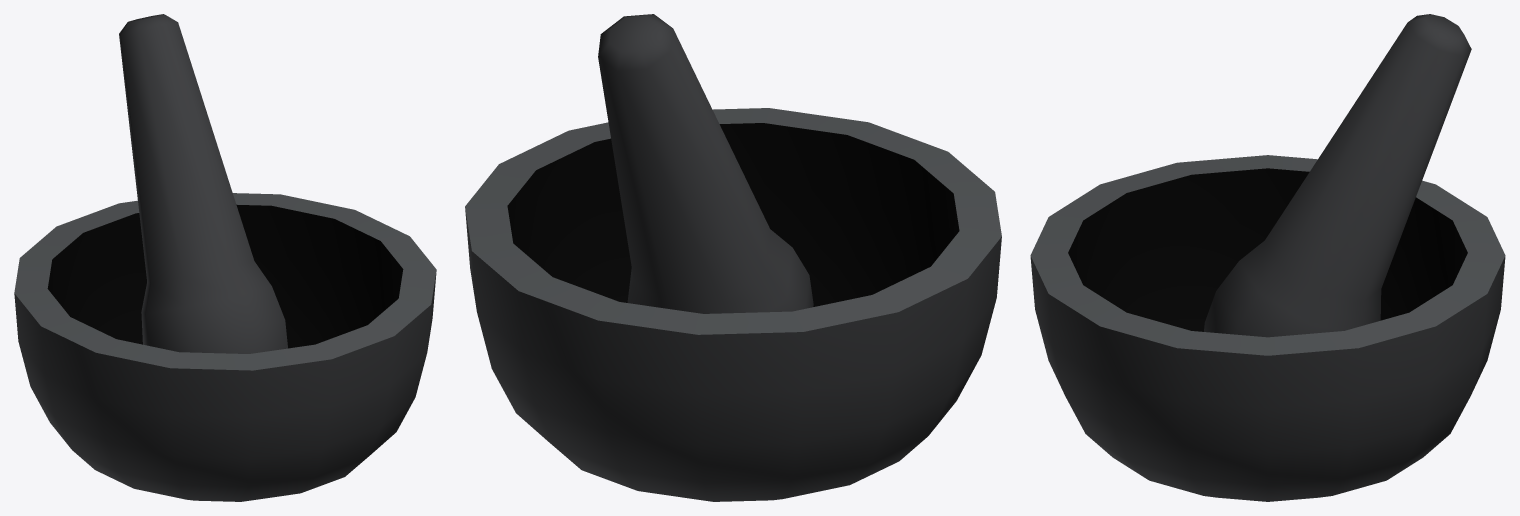
Rendered from Mortar_And_Pestle.fbx.
3 renders of one model, left to right at view 1: azimuth 30°, elevation 25°; view 2: azimuth 150°, elevation 25°; view 3: azimuth 270°, elevation 25°, orthographic. The views are drawn at different scales.
Parts seen in each view (by area): view 1: Mortar_And_Pestle; view 2: Mortar_And_Pestle; view 3: Mortar_And_Pestle.
Boxes of the visible parts, x1,y1,x2,y2 form: Mortar_And_Pestle: (14, 14, 436, 501); Mortar_And_Pestle: (465, 14, 1001, 501); Mortar_And_Pestle: (1030, 14, 1505, 501).
Size of the model in its own units: 0.3727 by 0.3766 by 0.3727.
